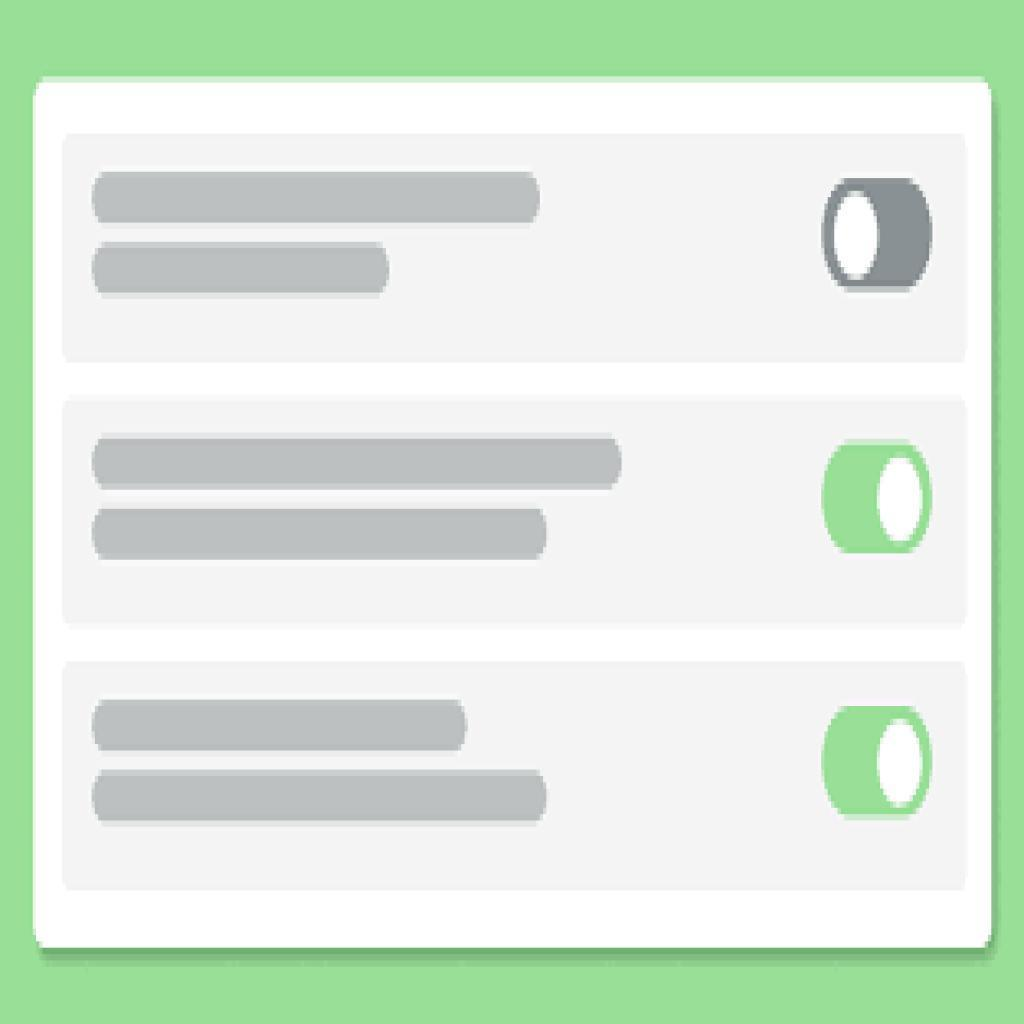switch: (815, 164, 950, 309), (815, 425, 940, 572), (820, 692, 937, 835)
